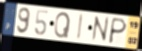5: (33, 8, 49, 37)
9: (16, 7, 32, 36)
I: (75, 12, 85, 41)
N: (90, 15, 110, 44)
P: (107, 17, 128, 46)
Q: (53, 11, 72, 39)
